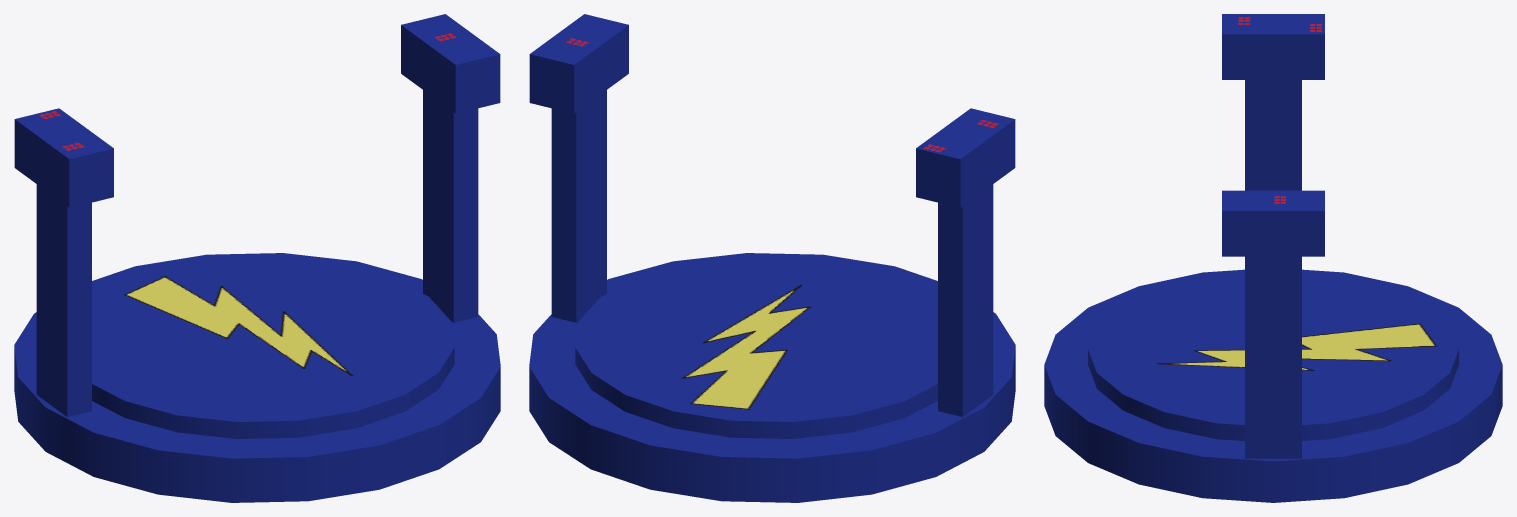
Rendered from chargingStation.fbx.
3 renders of one model, left to right at view 1: azimuth 30°, elevation 25°; view 2: azimuth 150°, elevation 25°; view 3: azimuth 270°, elevation 25°, orthographic. The views are drawn at different scales.
Visible parts, largest first — view 1: chargingStationBase, chargingStationArm_R, chargingStationArm_L; view 2: chargingStationBase, chargingStationArm_R, chargingStationArm_L; view 3: chargingStationBase, chargingStationArm_L, chargingStationArm_R.
Boxes of the visible parts, left/top/right/bottom form: chargingStationBase: left=14, top=253, right=500, bottom=502; chargingStationArm_R: left=14, top=108, right=113, bottom=416; chargingStationArm_L: left=401, top=14, right=500, bottom=322; chargingStationBase: left=529, top=253, right=1015, bottom=502; chargingStationArm_R: left=916, top=108, right=1015, bottom=416; chargingStationArm_L: left=529, top=14, right=628, bottom=322; chargingStationBase: left=1044, top=269, right=1502, bottom=502; chargingStationArm_L: left=1222, top=190, right=1324, bottom=458; chargingStationArm_R: left=1222, top=14, right=1324, bottom=190.
Bounding box in the file's own units: 2.03 × 2 × 1.41.
Materials: 1 (1 with a texture image).
